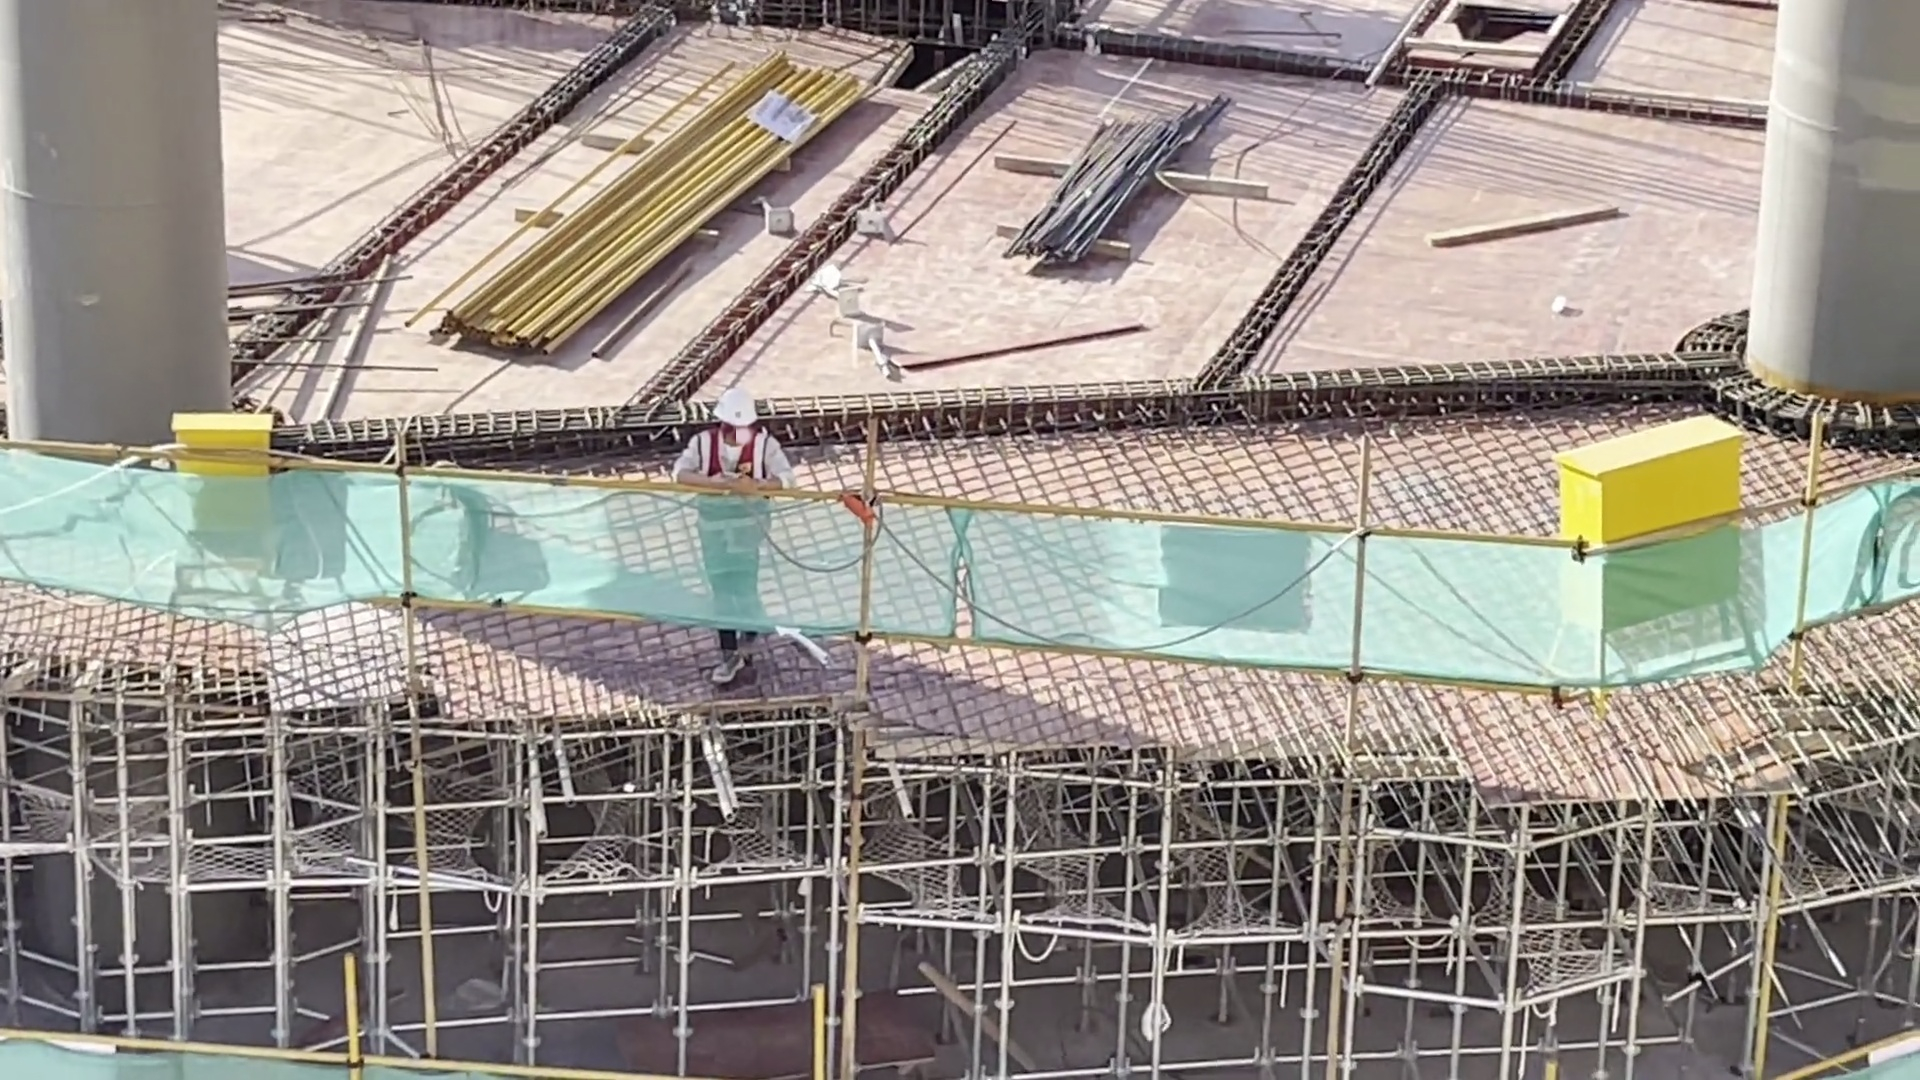ebox: (1541, 398, 1751, 627), (167, 401, 285, 568)
helmet: (709, 389, 757, 435)
person: (670, 393, 781, 690)
vest: (694, 441, 767, 549)
